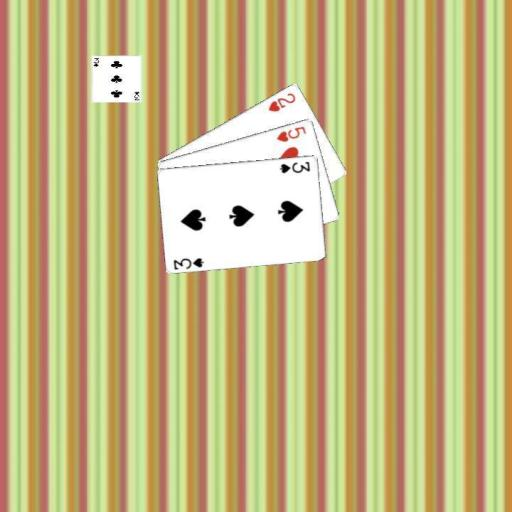card-corner: (265, 90, 297, 113), (274, 123, 308, 143), (276, 158, 312, 174), (170, 255, 204, 270)
